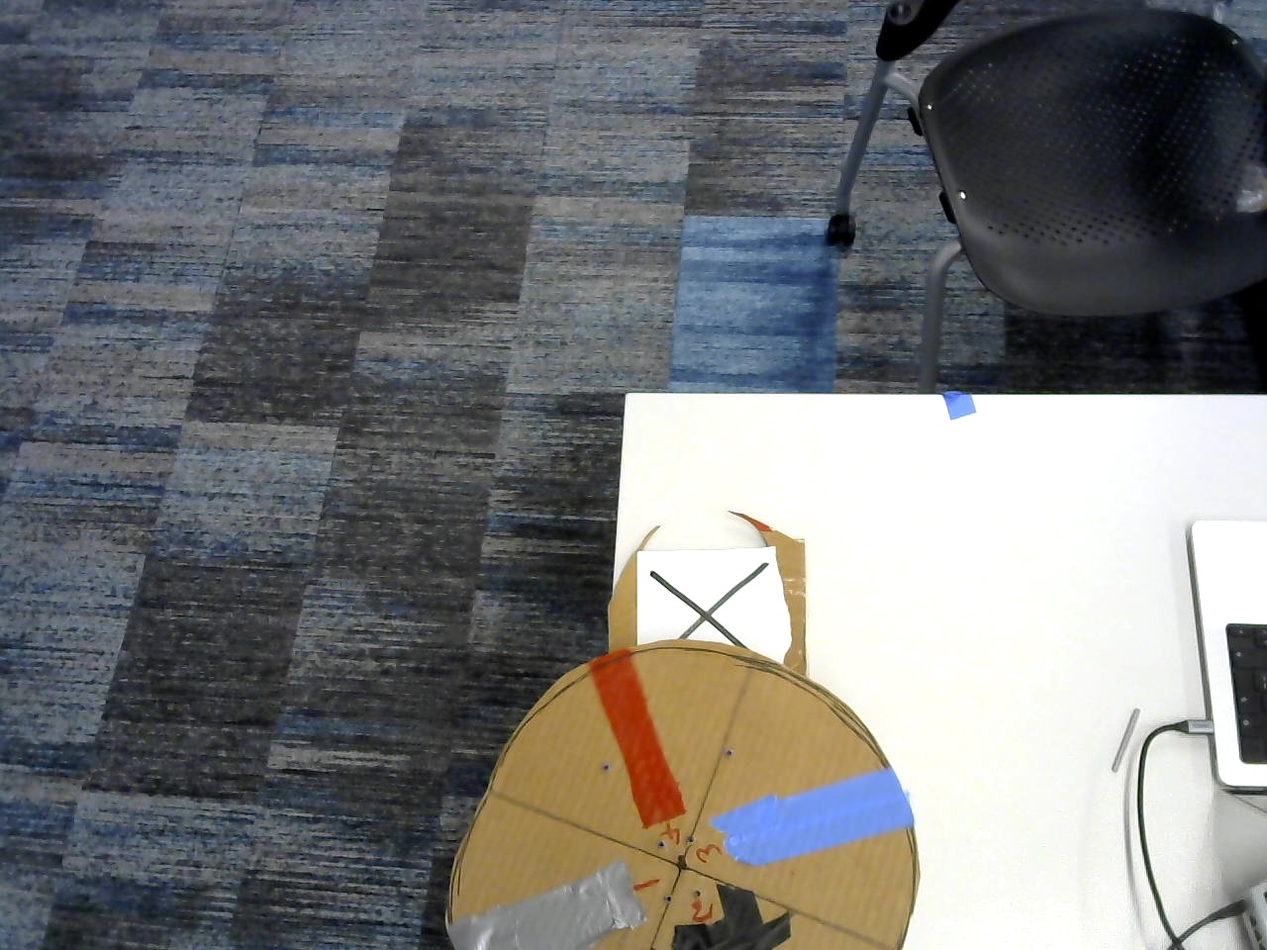black: (669, 888, 789, 950)
blue: (712, 769, 916, 868)
red: (587, 650, 688, 830)
silver: (452, 860, 651, 950)
x: (641, 553, 781, 654)
